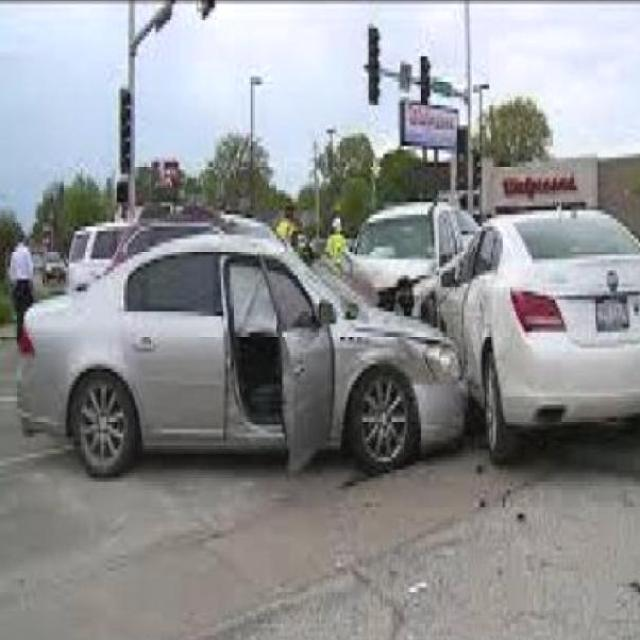accident: (20, 211, 640, 466)
